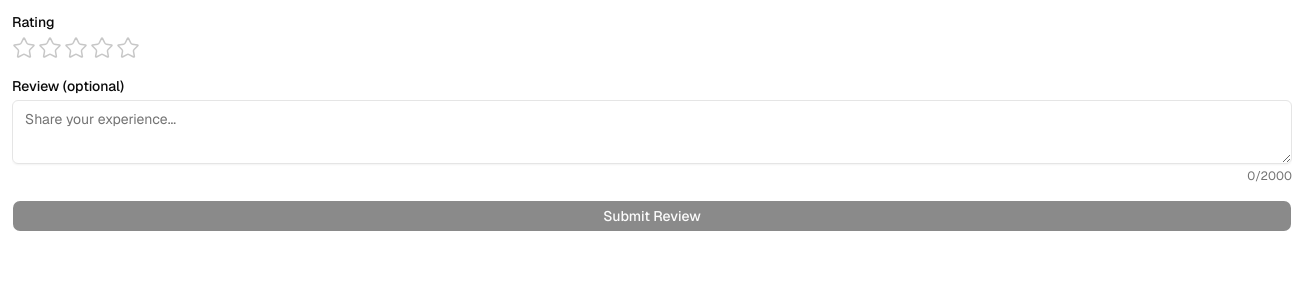
Test: ReviewForm › shows generic error on network failure
The image size is (1304, 284).
Click the button named "Rate 4 out of 5 stars" at (102, 48), box [90,36,114,60]
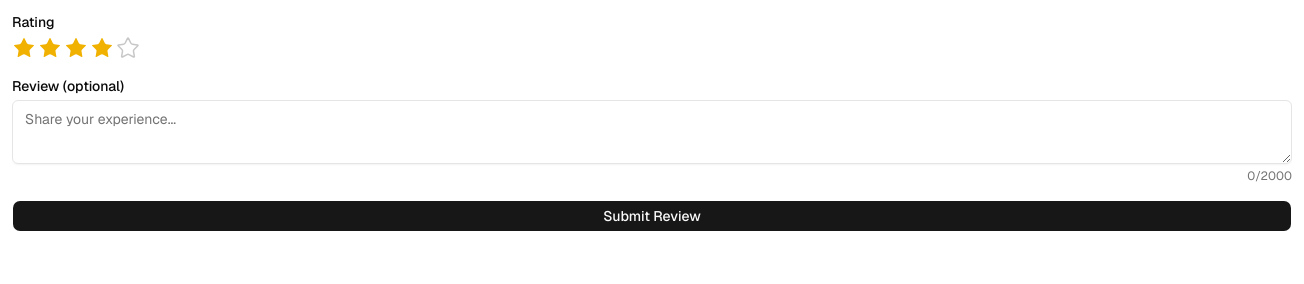
Click the button "Submit Review" at (652, 216), box [12,200,1292,232]
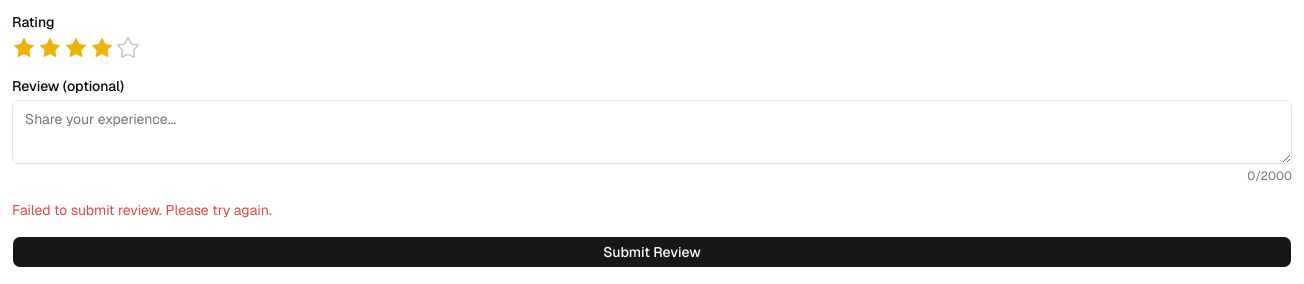
Check: the text "Failed to submit review. Please try again." is shown, box [12,201,272,219]
